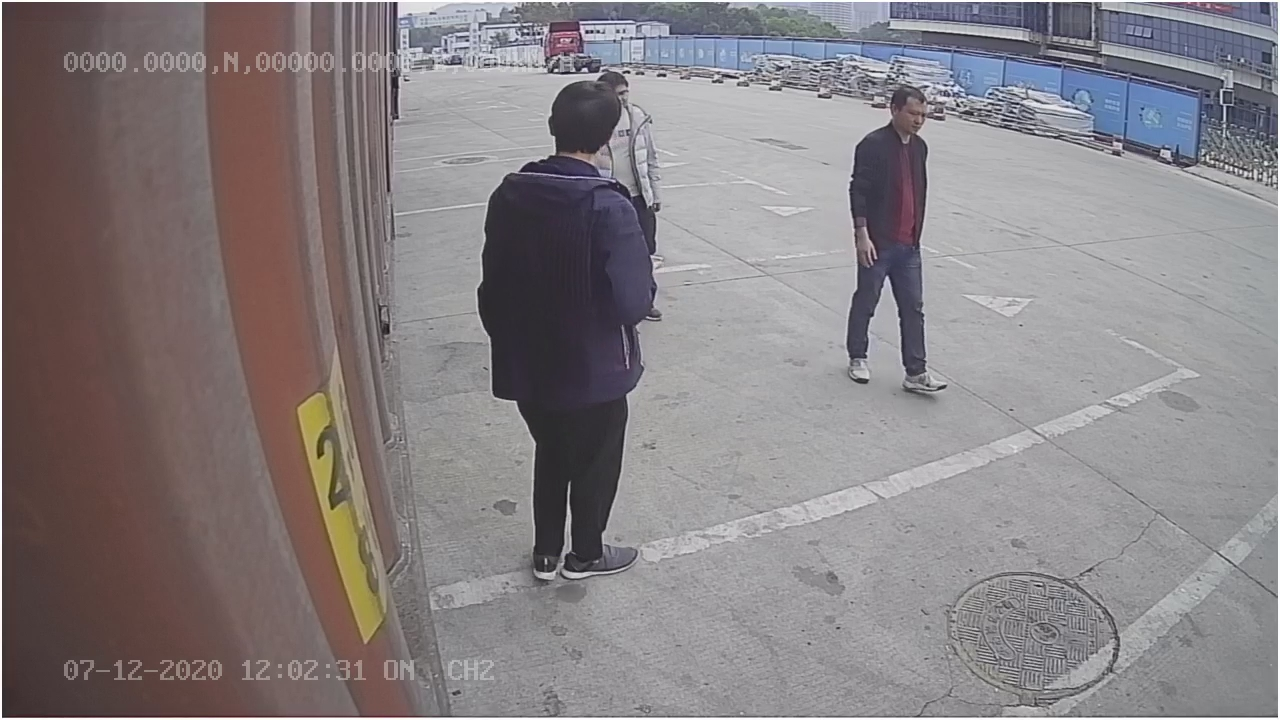person: (453, 75, 671, 591), (845, 83, 951, 399)
